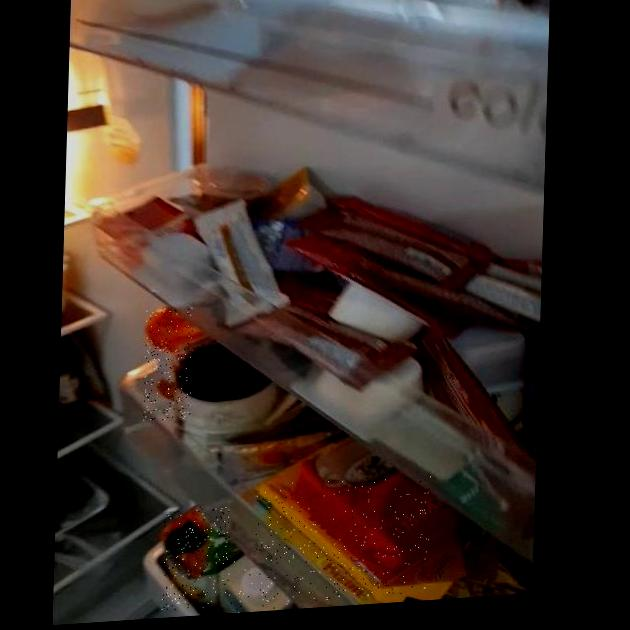butter: (253, 473, 431, 605)
juice: (162, 504, 230, 612)
milk: (217, 556, 289, 614)
sauce: (143, 306, 193, 422)
